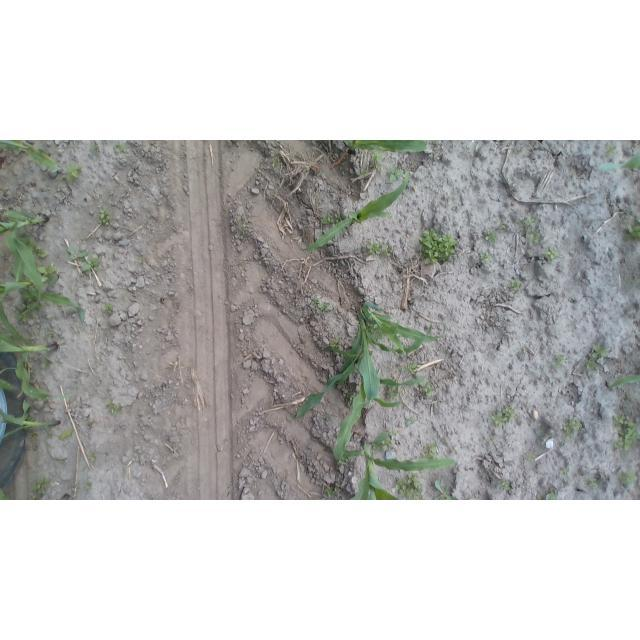Maize: (293, 299, 444, 462), (297, 165, 412, 256), (1, 286, 76, 401), (341, 430, 457, 500), (1, 236, 86, 325), (1, 208, 50, 317), (0, 400, 60, 444), (1, 140, 60, 172), (345, 140, 431, 154), (593, 152, 640, 172), (0, 368, 22, 393), (607, 375, 640, 391), (1, 488, 14, 500), (60, 493, 71, 499)
Weeds: (418, 226, 457, 264), (610, 413, 640, 452), (66, 244, 104, 273), (514, 214, 541, 245), (395, 474, 424, 500), (585, 342, 608, 370), (491, 404, 517, 428), (431, 480, 459, 500), (562, 416, 582, 441), (365, 241, 394, 258), (28, 476, 52, 495), (103, 397, 124, 418), (311, 295, 331, 315), (617, 468, 637, 488), (541, 246, 561, 265), (39, 265, 60, 283), (622, 222, 640, 242), (386, 165, 404, 184), (63, 163, 81, 182), (483, 229, 501, 247), (550, 353, 567, 370), (97, 207, 112, 226), (370, 152, 384, 172), (320, 214, 340, 227), (32, 243, 49, 258), (423, 441, 437, 459), (384, 386, 404, 398), (420, 381, 435, 397), (479, 249, 493, 265), (324, 485, 340, 499), (112, 142, 129, 155), (57, 429, 73, 442), (404, 363, 418, 377), (508, 279, 523, 292), (558, 467, 571, 482), (605, 144, 618, 158), (523, 452, 537, 465), (26, 427, 39, 441), (346, 388, 355, 408), (499, 477, 511, 492), (535, 492, 557, 500), (494, 216, 506, 230), (538, 425, 550, 439), (42, 356, 54, 370), (104, 303, 116, 316), (489, 433, 500, 447), (237, 226, 248, 239), (271, 156, 281, 169), (383, 440, 394, 451), (330, 339, 342, 349), (322, 414, 334, 424), (587, 477, 598, 487), (405, 415, 415, 426), (90, 144, 101, 153), (43, 330, 54, 339), (83, 481, 92, 492), (236, 213, 244, 224), (359, 169, 368, 178), (89, 452, 97, 461), (388, 429, 396, 438), (373, 444, 380, 454), (29, 494, 40, 500), (238, 259, 246, 267), (371, 324, 378, 333), (342, 456, 351, 463), (615, 372, 622, 379), (139, 257, 146, 263), (431, 140, 437, 146), (517, 148, 524, 153), (635, 217, 640, 224), (322, 227, 327, 233)
